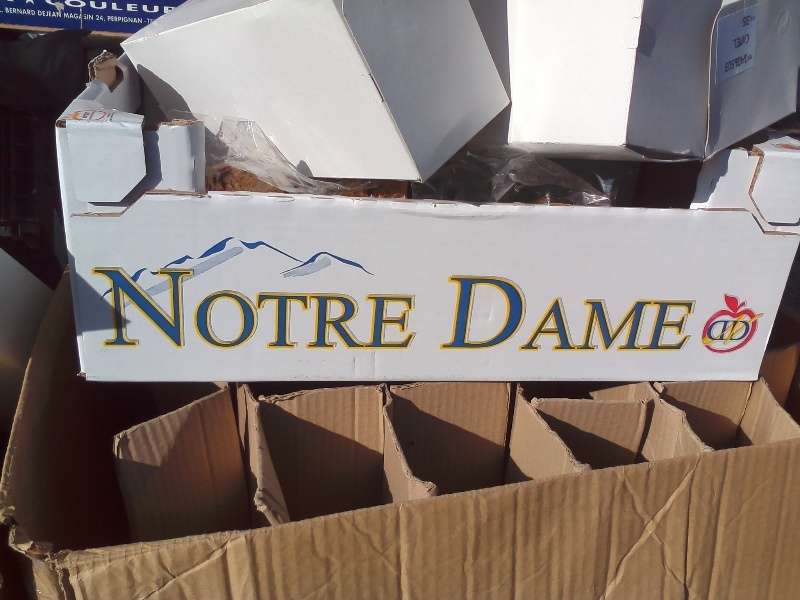text: (97, 265, 112, 351), (113, 265, 128, 351), (129, 265, 144, 351), (145, 265, 160, 351), (161, 265, 176, 351), (177, 265, 192, 351), (193, 265, 208, 351), (209, 265, 224, 351), (225, 265, 240, 351), (241, 265, 256, 351), (257, 265, 272, 351), (273, 265, 288, 351), (289, 265, 304, 351), (305, 265, 320, 351), (321, 265, 336, 351), (337, 265, 352, 351), (353, 265, 368, 351), (369, 265, 384, 351), (385, 265, 400, 351), (401, 265, 416, 351), (449, 273, 464, 355), (465, 273, 480, 355), (481, 273, 496, 355), (497, 273, 512, 355), (513, 273, 528, 355), (529, 273, 544, 355), (545, 273, 560, 355), (561, 273, 576, 355), (577, 273, 592, 355), (593, 273, 608, 355), (609, 273, 624, 355), (625, 273, 640, 355), (641, 273, 656, 355), (657, 273, 672, 355), (673, 273, 688, 355), (689, 273, 701, 355), (737, 51, 752, 74), (724, 51, 736, 74), (737, 33, 751, 51), (33, 1, 48, 17), (49, 1, 64, 17), (65, 1, 80, 17), (81, 1, 96, 17), (97, 1, 112, 17), (113, 1, 128, 17), (129, 1, 144, 17), (145, 1, 160, 17), (161, 1, 176, 17), (94, 265, 96, 351), (446, 273, 448, 355), (129, 15, 145, 25), (741, 15, 752, 29), (65, 12, 80, 22), (113, 15, 128, 25), (17, 7, 32, 17), (81, 12, 95, 22), (49, 9, 63, 19), (85, 109, 96, 120), (5, 7, 16, 17), (38, 9, 48, 19), (26, 1, 32, 17), (147, 19, 160, 26), (113, 109, 120, 122), (417, 265, 418, 351), (177, 1, 181, 17), (97, 14, 104, 22), (733, 33, 736, 51), (107, 15, 112, 25), (109, 109, 112, 122), (33, 7, 36, 17), (753, 51, 754, 74), (63, 12, 64, 22)
